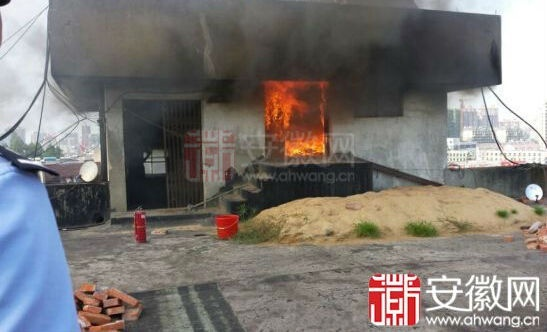fire: (262, 79, 331, 159)
